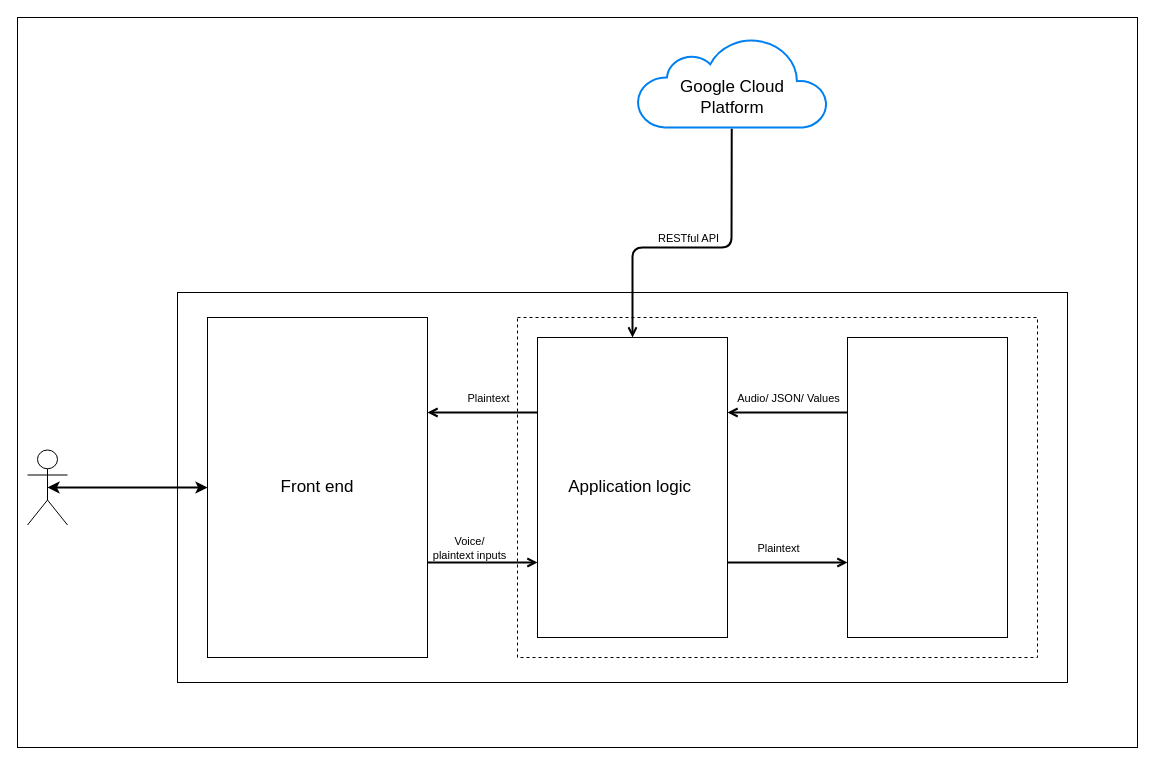
This 1155x765 diagram has some shape labels left out. The shapes that lost their labels are listed below. From the top down, each one's centre as x and y in pixels, then its label:
At point 47,487: "User".
At point 927,487: "App local storage".
